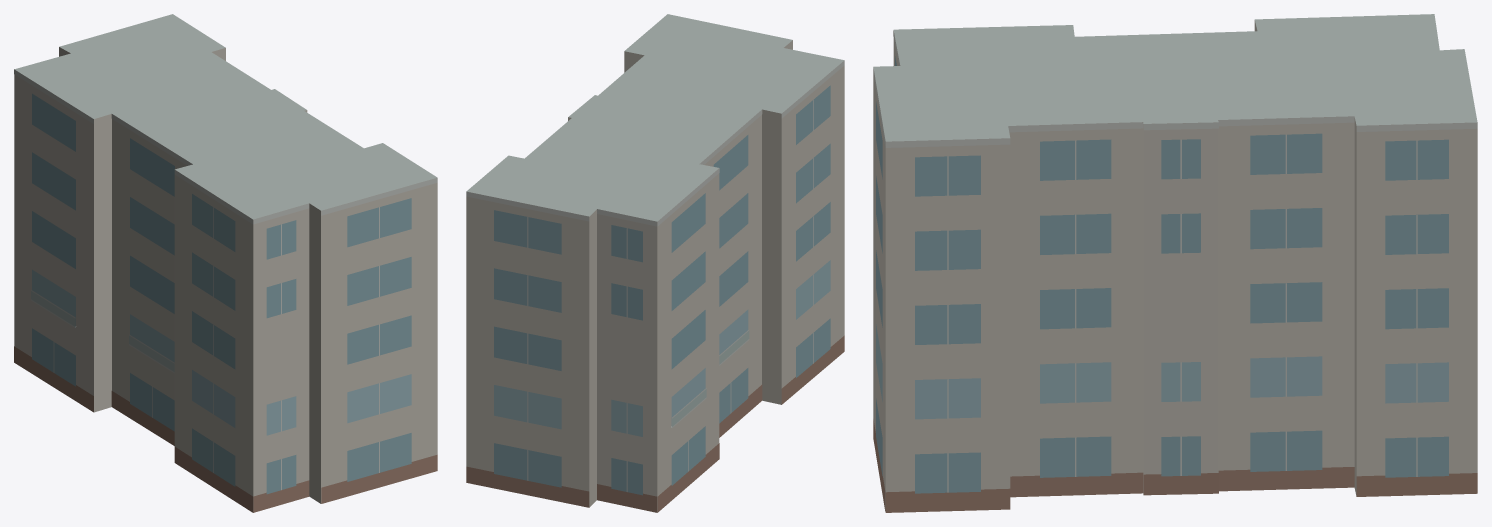
The model's file is survey-upis-32910863.glb.
3 views of the same model, side by side, from view 1: azimuth 30°, elevation 25°; view 2: azimuth 150°, elevation 25°; view 3: azimuth 270°, elevation 25° (orthographic). The views are drawn at different scales.
Visible parts, largest first — view 1: survey-upis-32910863.tmp; view 2: survey-upis-32910863.tmp; view 3: survey-upis-32910863.tmp.
Part boxes in pixels (left/top/right/bottom): survey-upis-32910863.tmp: left=14, top=14, right=437, bottom=512; survey-upis-32910863.tmp: left=466, top=14, right=844, bottom=512; survey-upis-32910863.tmp: left=873, top=14, right=1477, bottom=512.
Size of the model in its own units: 10.55 by 14.3 by 21.1.
